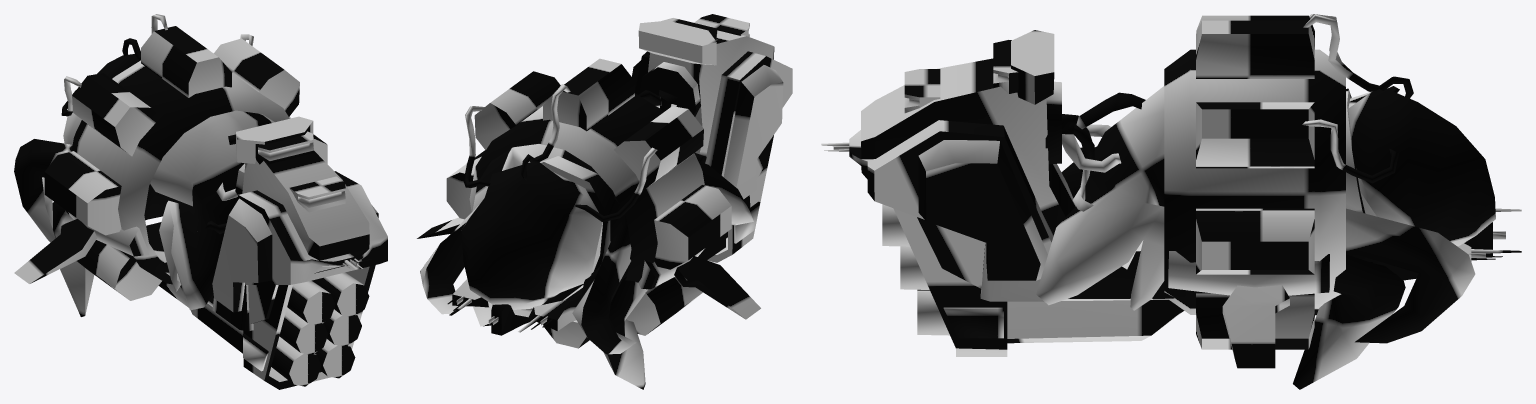
Rendered from sibelon.obj.
The picture shows the model from 3 angles, left to right: view 1: azimuth 30°, elevation 25°; view 2: azimuth 150°, elevation 25°; view 3: azimuth 270°, elevation 25°; orthographic projection. The views are drawn at different scales.
Visible parts, largest first — view 1: sibelon, sibelonbosscreature; view 2: sibelon, sibelonbosscreature; view 3: sibelon, sibelonbosscreature.
Part boxes in pixels (<box>): sibelon: <box>14,14,387,389</box>; sibelonbosscreature: <box>14,54,271,316</box>; sibelon: <box>417,14,792,348</box>; sibelonbosscreature: <box>420,144,753,389</box>; sibelon: <box>821,14,1521,368</box>; sibelonbosscreature: <box>1036,86,1495,389</box>.
Size of the model in its own units: 129 by 106 by 192.
Materials: 2 (2 with a texture image).
